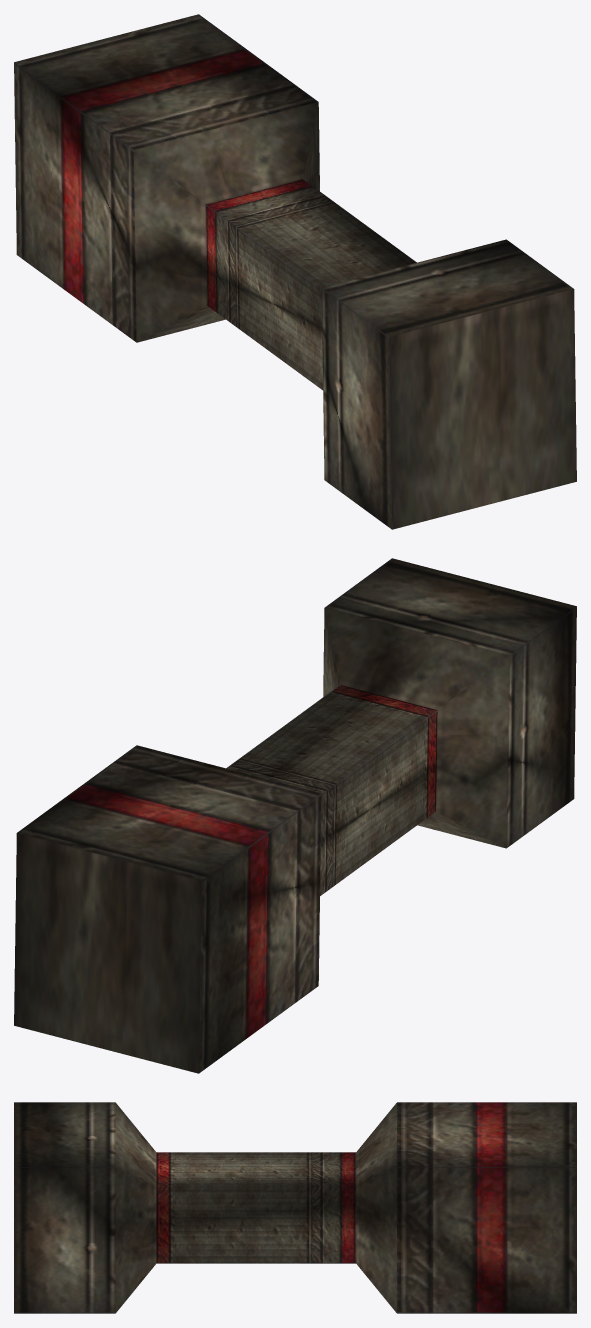
File: column_17.obj
3 views of the same model, one above another, from view 1: azimuth 30°, elevation 25°; view 2: azimuth 150°, elevation 25°; view 3: azimuth 270°, elevation 25° (orthographic). The views are drawn at different scales.
Parts seen in each view (by area): view 1: (null); view 2: (null); view 3: (null).
Part boxes in pixels (x1,y1,x2,y2): (null): [14, 14, 576, 529]; (null): [14, 558, 576, 1073]; (null): [14, 1102, 576, 1313].
Size of the model in its own units: 0.8002 by 0.8002 by 2.77.
